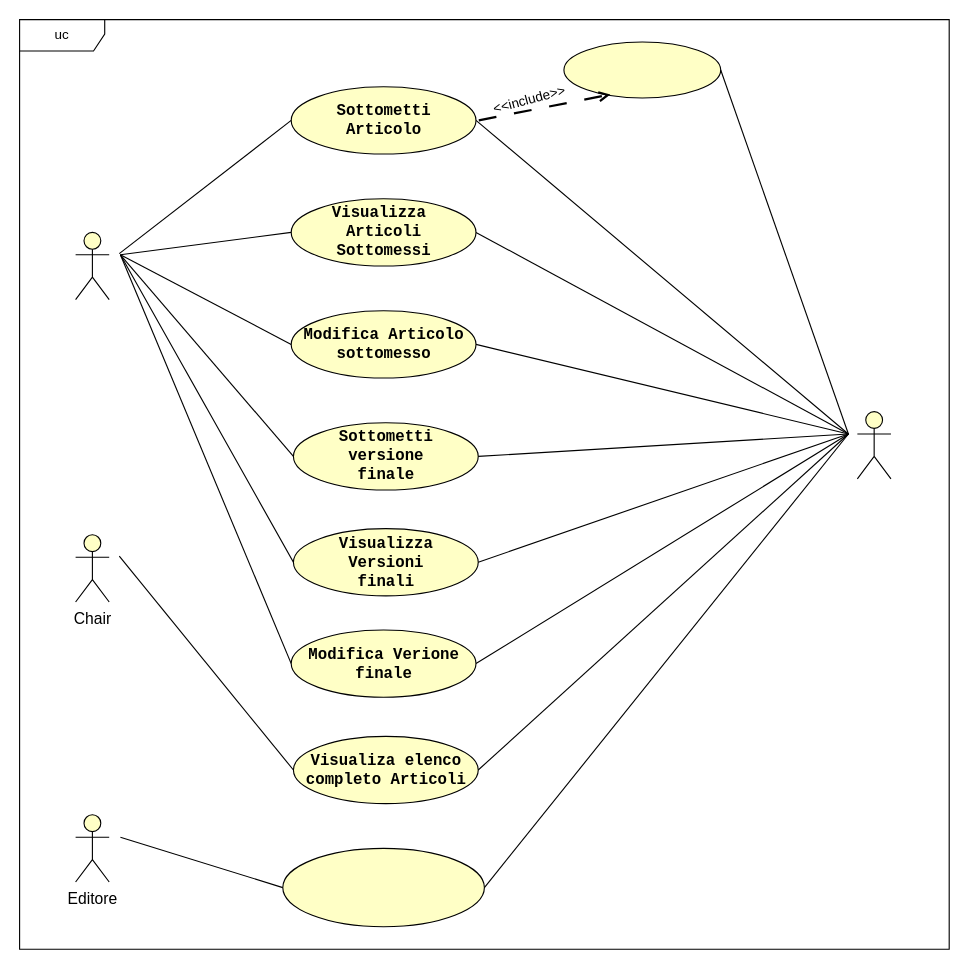
Image size: 969x969. Some labels were removed from this diagram. The centre of each missing label's shape, as x and y in pixels:
Autore: the point at 91,265
DBMS: the point at 873,444
Inserisci dati Articolo: the point at 642,69
Visualizza elenco completo Versioni finali: the point at 383,887
